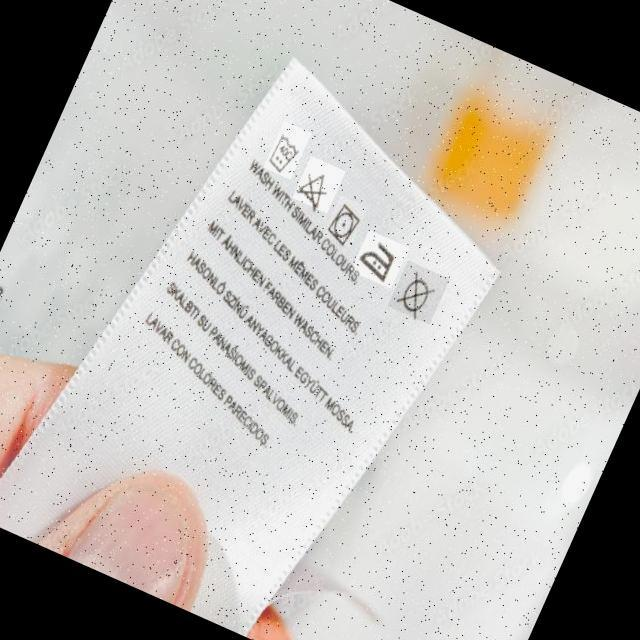40C: (267, 131, 302, 171)
DN_bleach: (298, 165, 334, 207)
DN_dry_clean: (399, 270, 436, 317)
iron_medium: (363, 238, 399, 281)
tumble_dry_low: (328, 201, 363, 244)
